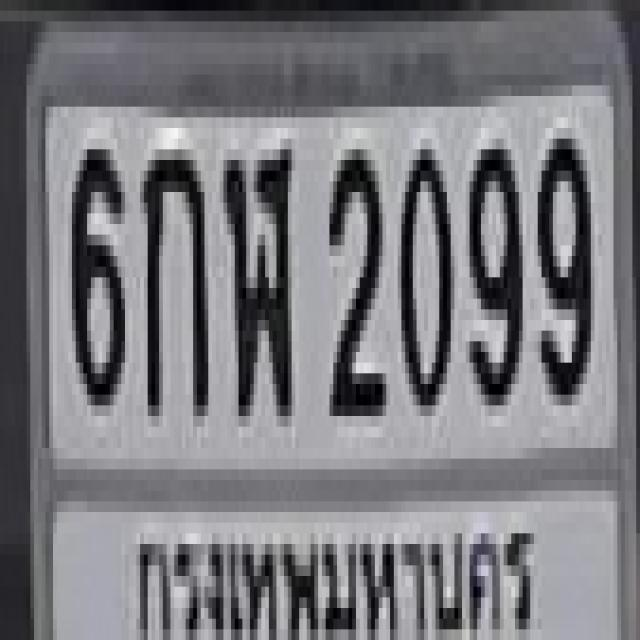0: (398, 139, 447, 405)
2: (326, 139, 378, 405)
6: (68, 138, 121, 394)
9: (534, 128, 587, 395), (466, 128, 519, 395)
A01: (140, 139, 205, 405)
A42: (223, 139, 288, 405)
BKK: (121, 510, 544, 640)
